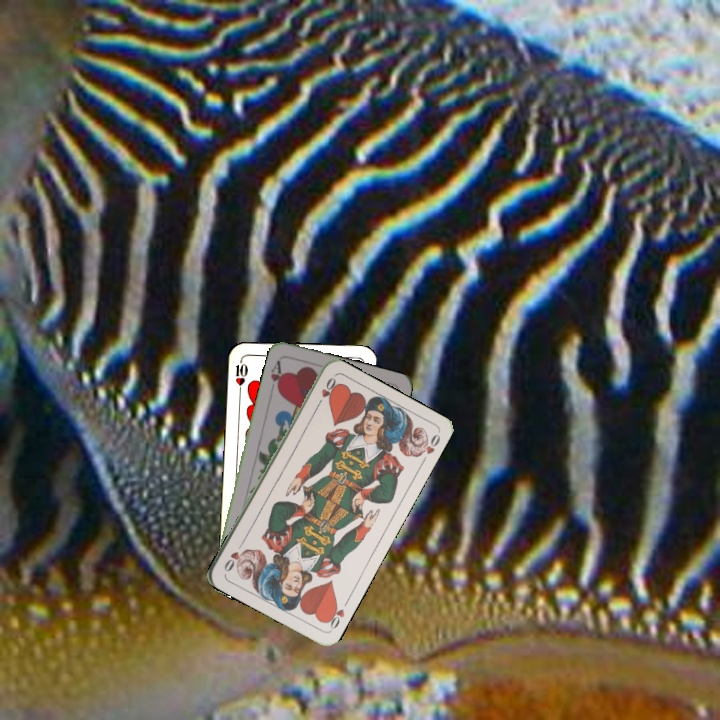H10: (231, 355, 250, 395)
HA: (266, 356, 286, 396)
HO: (321, 595, 351, 633), (312, 373, 338, 410)
